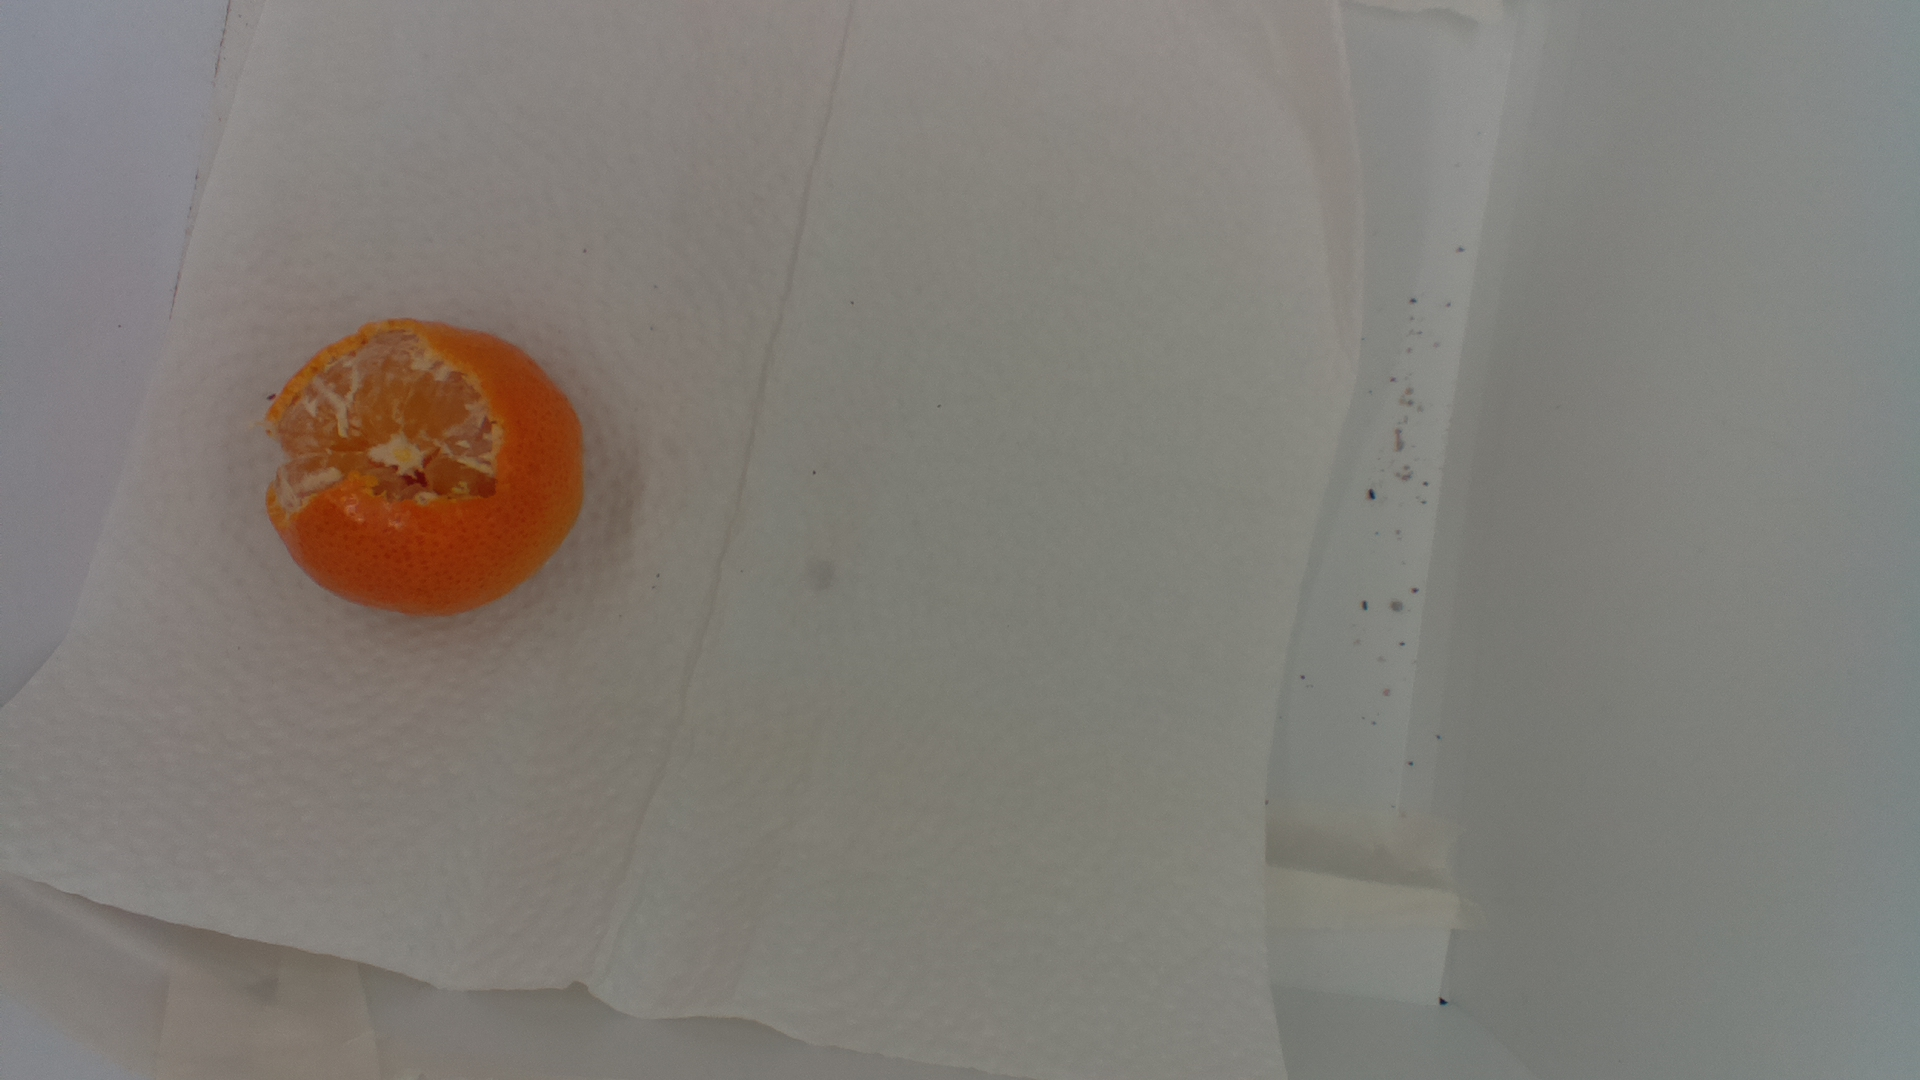fruit: (262, 313, 592, 620)
